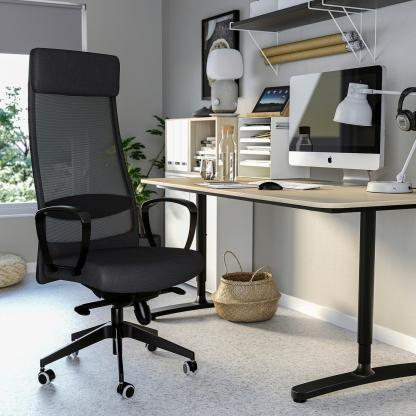chair: (12, 40, 207, 405)
light: (329, 75, 416, 194)
table: (134, 162, 416, 416)
